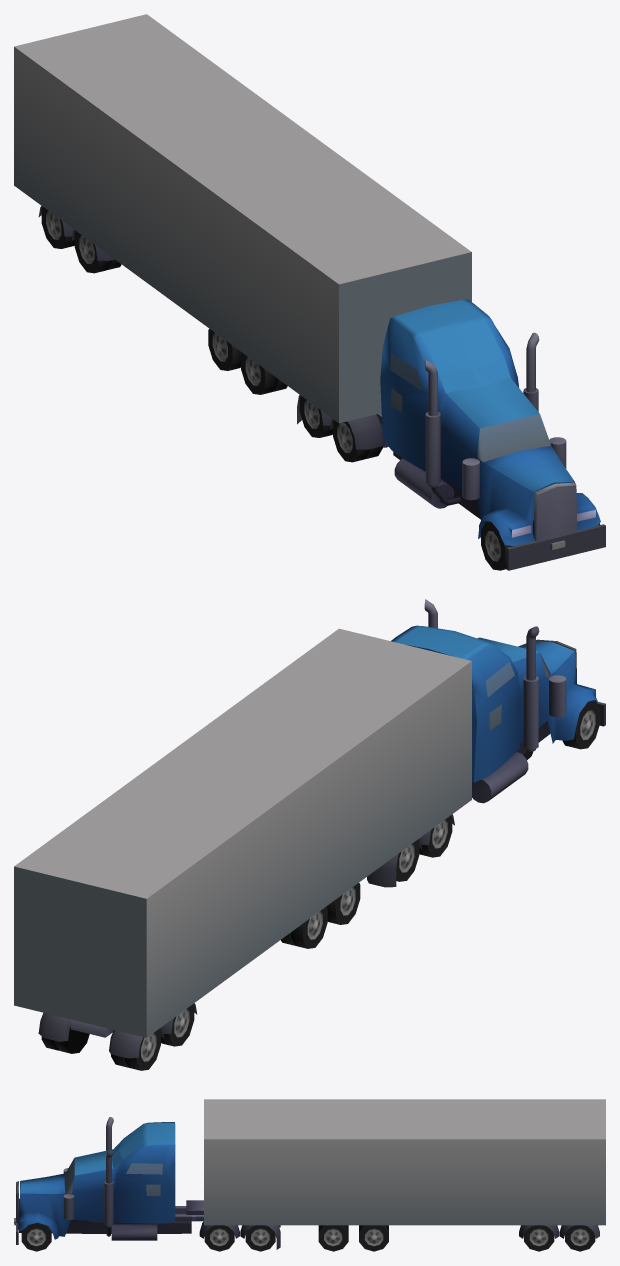
File: vehicles-trucks-vans-semi-truck_v1.glb
3 views of the same model, one above another, from view 1: azimuth 30°, elevation 25°; view 2: azimuth 150°, elevation 25°; view 3: azimuth 270°, elevation 25° (orthographic). The views are drawn at different scales.
Parts seen in each view (by area): view 1: Semi Truck.001, Semi Truck; view 2: Semi Truck.001, Semi Truck; view 3: Semi Truck.001, Semi Truck.
Part boxes in pixels (x1,y1,x2,y2): Semi Truck.001: (14,14,605,570); Semi Truck: (46,211,550,561); Semi Truck.001: (14,599,605,1070); Semi Truck: (141,653,595,1061); Semi Truck.001: (14,1099,605,1251); Semi Truck: (27,1158,589,1246).
Size of the model in its own units: 3.37 by 4.62 by 21.
